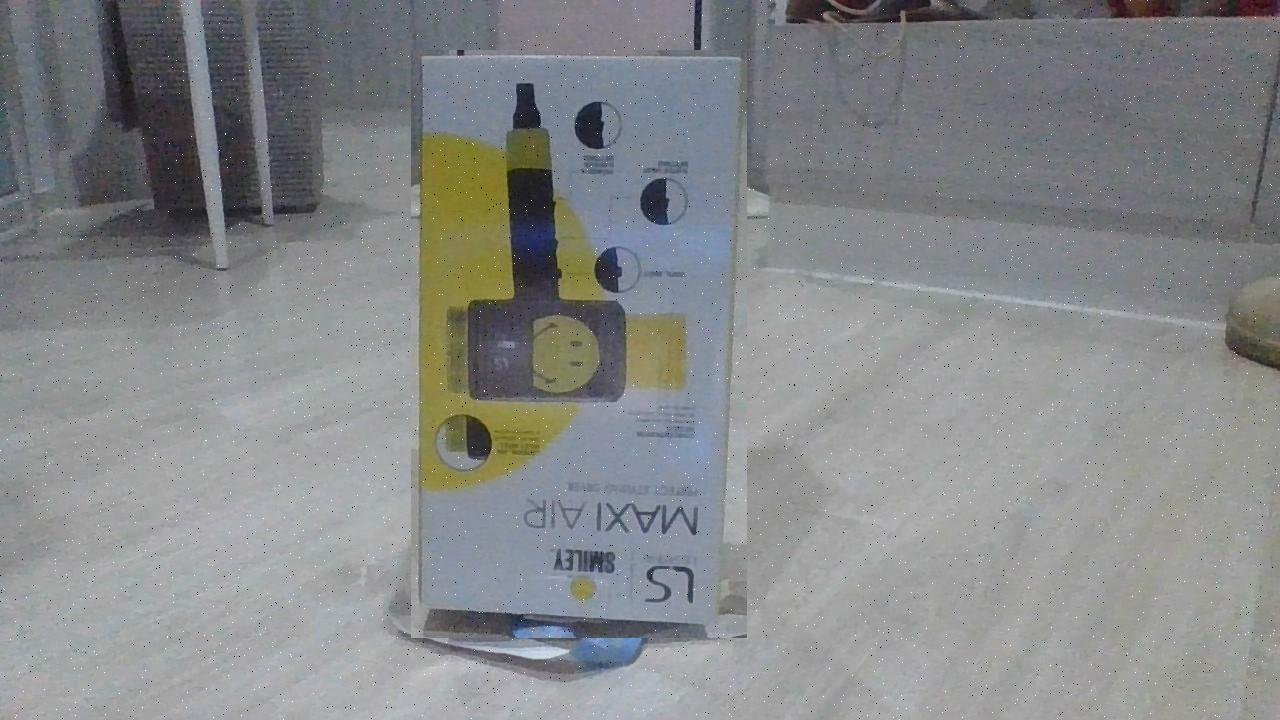IRON: (411, 50, 747, 638)
